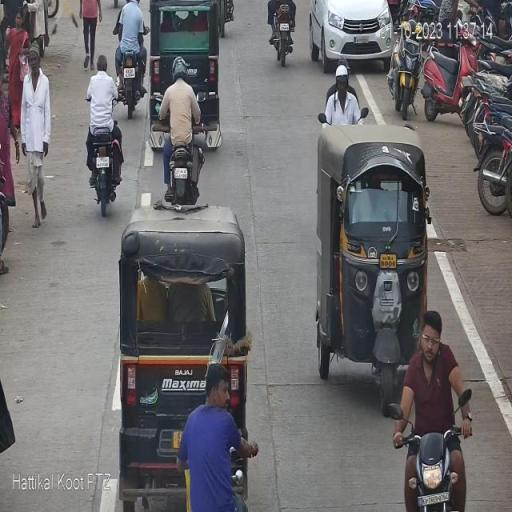using mobile: (436, 333, 444, 370)
